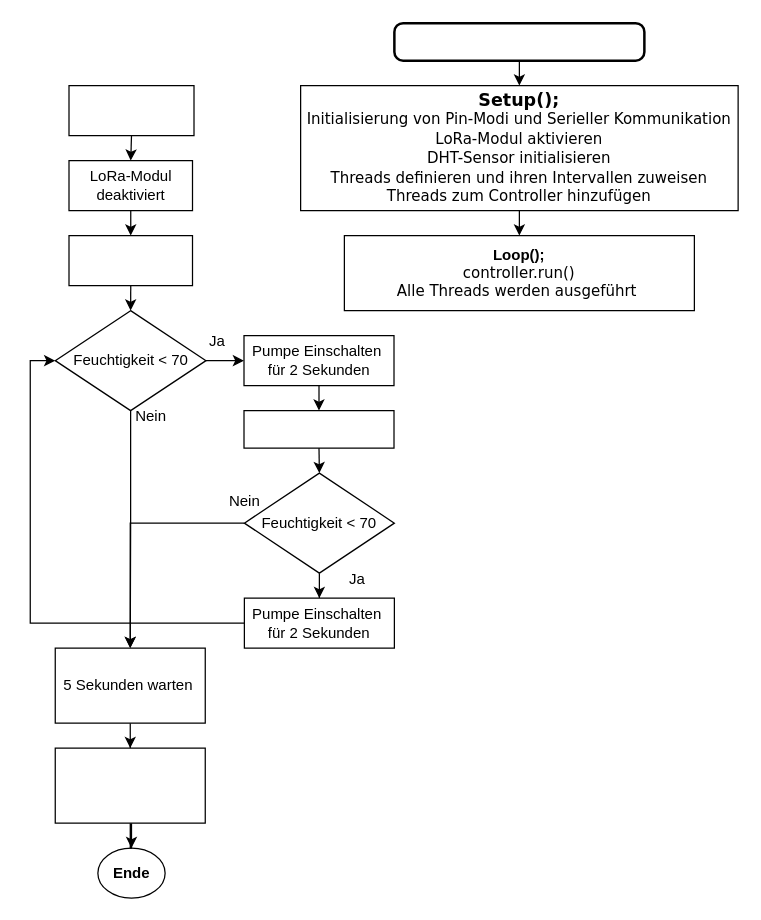
The diagram is 761 pixels wide and 920 high, and some of its shapes have lost their labels. Here are the shapes that lost their labels. From the top down, the box of each, then its label:
(392, 21, 645, 61): Start
(68, 84, 194, 136): pumpControllThread
(68, 234, 192, 286): Bodenfeuchtigkeit messen
(243, 409, 394, 448): 5 Sekungen warten
(54, 747, 205, 823): Aktviert LoRa-Modul
